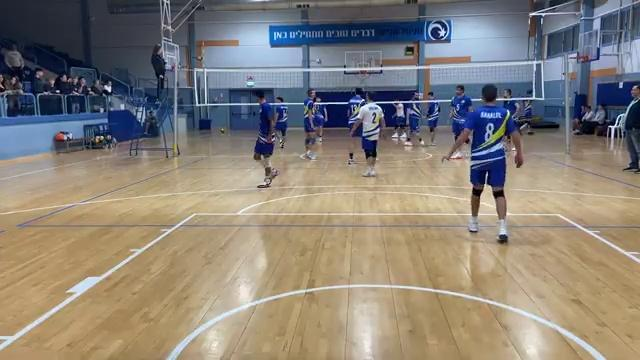ball: (216, 126, 229, 133)
